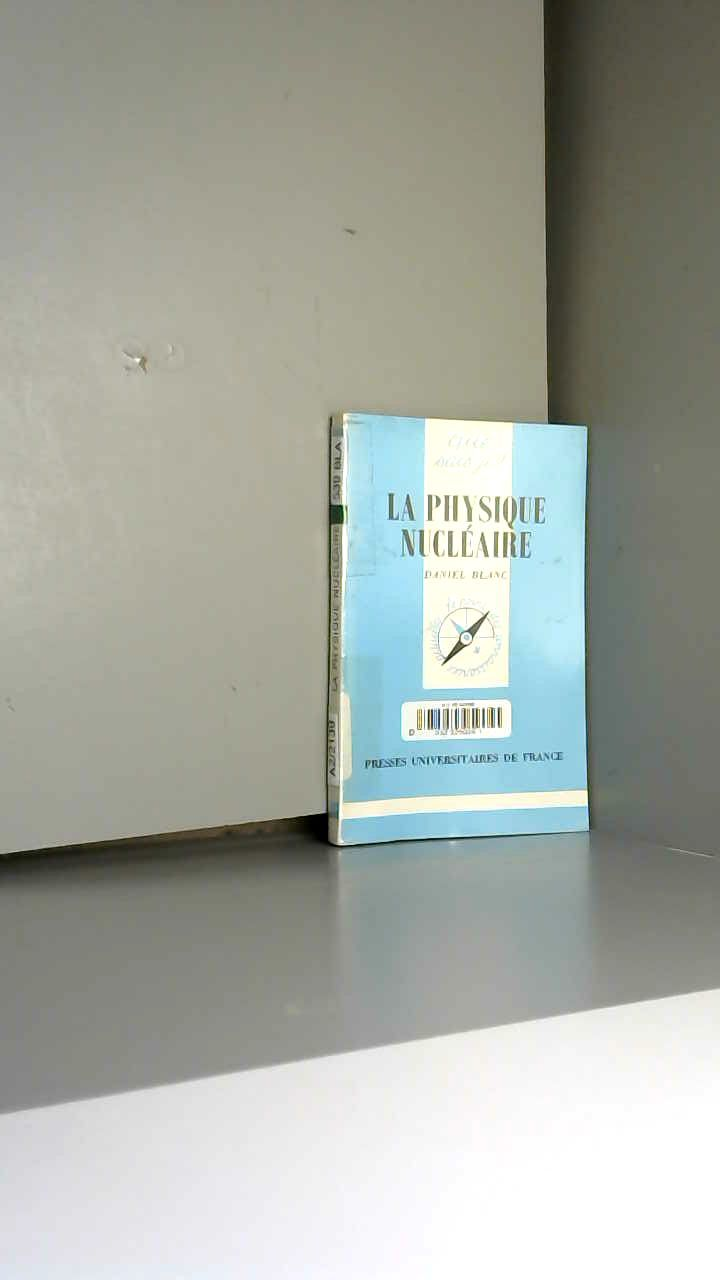book: (300, 380, 720, 907)
